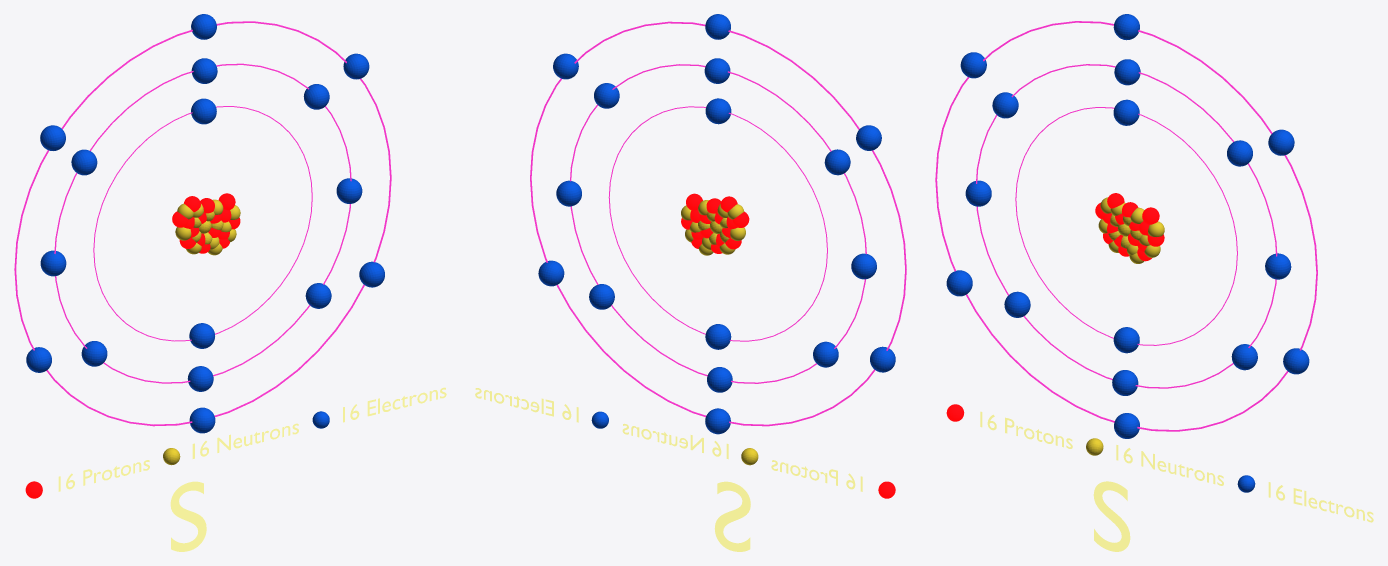
The model's file is sulfer.glb.
3 views of the same model, side by side, from view 1: azimuth 30°, elevation 25°; view 2: azimuth 150°, elevation 25°; view 3: azimuth 330°, elevation 25° (orthographic).
Parts seen in each view (by area): view 1: BézierCircle.002, BézierCircle.001, Text, BézierCircle, Text.003, Text.002, Sphere.026, Sphere.002, Sphere.037, Sphere.043, Sphere.016, Sphere.009 (+11 smaller); view 2: BézierCircle.002, BézierCircle.001, Text, BézierCircle, Text.002, Text.003, Sphere.039, Sphere.026, Sphere.009, Sphere.043, Sphere.048, Sphere.001 (+11 smaller); view 3: BézierCircle.002, BézierCircle.001, Text, BézierCircle, Text.003, Text.002, Sphere.043, Sphere.020, Sphere.015, Sphere.033, Sphere.039, Sphere.002 (+11 smaller).
Part boxes in pixels (box(x1,y1,x2,y2)): BézierCircle.002: box(14, 21, 391, 426); BézierCircle.001: box(54, 63, 351, 383); Text: box(170, 481, 206, 551); BézierCircle: box(93, 106, 312, 341); Text.003: box(343, 387, 446, 422); Text.002: box(192, 423, 298, 458); Sphere.026: box(71, 149, 97, 175); Sphere.002: box(191, 98, 216, 124); Sphere.037: box(189, 407, 215, 433); Sphere.043: box(343, 53, 369, 79); Sphere.016: box(40, 250, 66, 276); Sphere.009: box(336, 178, 362, 203); BézierCircle.002: box(530, 21, 906, 426); BézierCircle.001: box(570, 64, 866, 383); Text: box(714, 481, 750, 551); BézierCircle: box(608, 106, 827, 341); Text.002: box(622, 423, 728, 459); Text.003: box(475, 388, 578, 422); Sphere.039: box(538, 260, 564, 286); Sphere.026: box(824, 149, 850, 175); Sphere.009: box(556, 180, 581, 206); Sphere.043: box(553, 53, 578, 79); Sphere.048: box(856, 125, 881, 150); Sphere.001: box(705, 324, 731, 349); BézierCircle.002: box(935, 21, 1317, 431); BézierCircle.001: box(976, 64, 1277, 388); Text: box(1093, 481, 1130, 551); BézierCircle: box(1015, 107, 1237, 345); Text.003: box(1268, 482, 1373, 522); Text.002: box(1116, 445, 1223, 485); Sphere.043: box(1268, 129, 1294, 155); Sphere.020: box(1004, 291, 1030, 317); Sphere.015: box(1114, 59, 1140, 85); Sphere.033: box(946, 270, 972, 296); Sphere.039: box(1283, 348, 1309, 374); Sphere.002: box(1113, 99, 1139, 125).
Size of the model in its own units: 4.62 by 5.44 by 0.2925.
